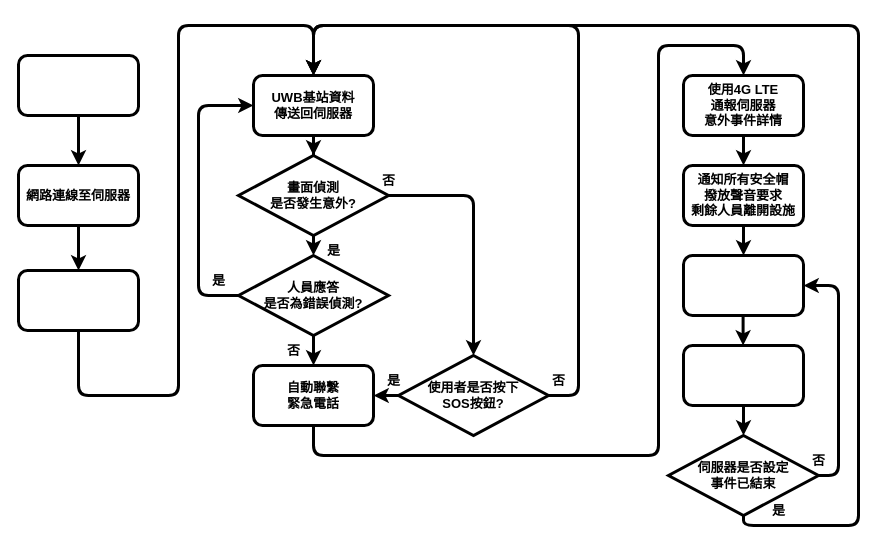
Image size: 885x552. Some labels were removed from this diagram. Each missing label, with the box of its shape:
安全帽UWB連接到UWB基站: (16, 268, 140, 332)
安全帽持續發送位置至伺服器: (682, 344, 804, 406)
救援人員使用UWB定位 該人員: (682, 254, 804, 316)
開機: (16, 54, 140, 116)
